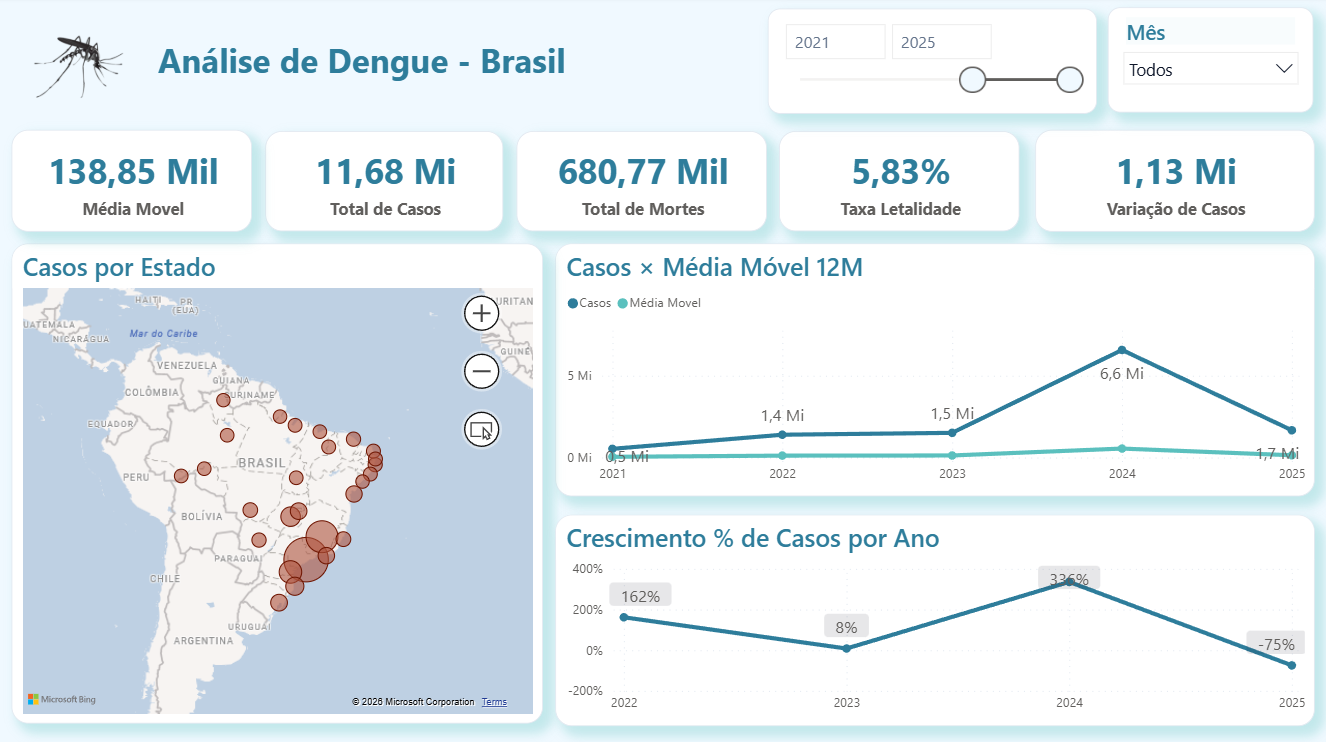

The dashboard page shown, as its layout file describes it:
{"tool":"powerbi","page":{"name":"Geral","canvas":[1280,720],"ordinal":0},"visuals":[{"type":"card","fields":{"Values":["Sum(dengue_db dengue_dados_enriquecidos.casos)"]},"box":[256.9,129.8,229.6,97],"z":0},{"type":"card","fields":{"Values":["Sum(dengue_db dengue_dados_enriquecidos.mortes)"]},"box":[498.8,129.8,241.9,97],"z":1000},{"type":"card","fields":{"Values":["dengue_db_dengue_dados_enriquecidos.Taxa_Letalidade"]},"box":[753,129.8,232.3,97],"z":2000},{"type":"lineChart","title":"Casos × Média Móvel 12M","fields":{"Category":["dengue_db_dengue_dados_enriquecidos.ano"],"Y":["Sum(dengue_db_dengue_dados_enriquecidos.casos)","dengue_db_dengue_dados_enriquecidos.Media_Movel_12"]},"box":[536.2,238.8,732.5,243.8],"z":3000},{"type":"map","title":"Casos por Estado","fields":{"Category":["dengue_db_dengue_dados_enriquecidos.Estado_Extenso"],"Size":["Sum(dengue_db_dengue_dados_enriquecidos.casos)"]},"box":[12.3,239.2,512.5,463.3],"z":4000},{"type":"card","fields":{"Values":["dengue_db_dengue_dados_enriquecidos.Media_Movel_12"]},"box":[12.3,128.5,232.3,98.4],"z":5000},{"type":"lineChart","title":"Crescimento % de Casos por Ano","fields":{"Category":["dengue_db_dengue_dados_enriquecidos.ano"],"Y":["dengue_db_dengue_dados_enriquecidos.Crescimento_%_Casos"]},"box":[536.2,500,732.5,203.8],"z":6000},{"type":"card","fields":{"Values":["dengue_db_dengue_dados_enriquecidos.Total_Variacao_Casos"]},"box":[1000.4,128.5,269.2,98.4],"z":7000},{"type":"slicer","fields":{"Values":["Calendario.Date.Variation.Hierarquia de datas.Ano"]},"box":[741.2,12.5,317.5,101.2],"z":8000},{"type":"image","box":[21.2,11.2,107.5,106.2],"z":9000},{"type":"textbox","box":[148.8,35,570,65],"z":10000},{"type":"slicer","fields":{"Values":["dengue_db_dengue_dados_enriquecidos.mes"]},"box":[1070,11.2,198.8,101.2],"z":11000}]}

Visuals, with their boxes in screenshot pixels (x1, y1, x2, y2), scaled from the page's 1280x720 canvas onto the 1326x742 screenshot:
card - Sum(dengue_db dengue_dados_enriquecidos.casos): [266,134,504,234]
card - Sum(dengue_db dengue_dados_enriquecidos.mortes): [517,134,767,234]
card - dengue_db_dengue_dados_enriquecidos.Taxa_Letalidade: [780,134,1021,234]
"Casos × Média Móvel 12M" lineChart: [555,246,1314,497]
"Casos por Estado" map: [13,247,544,724]
card - dengue_db_dengue_dados_enriquecidos.Media_Movel_12: [13,132,253,234]
"Crescimento % de Casos por Ano" lineChart: [555,515,1314,725]
card - dengue_db_dengue_dados_enriquecidos.Total_Variacao_Casos: [1036,132,1315,234]
slicer - Calendario.Date.Variation.Hierarquia de datas.Ano: [768,13,1097,117]
image: [22,12,133,121]
textbox: [154,36,745,103]
slicer - dengue_db_dengue_dados_enriquecidos.mes: [1108,12,1314,116]
